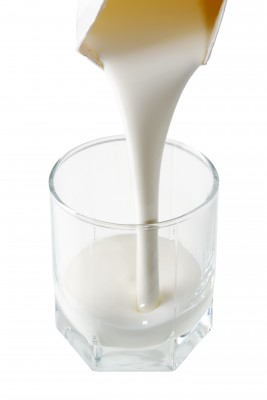glass of milk: (48, 141, 217, 360)
